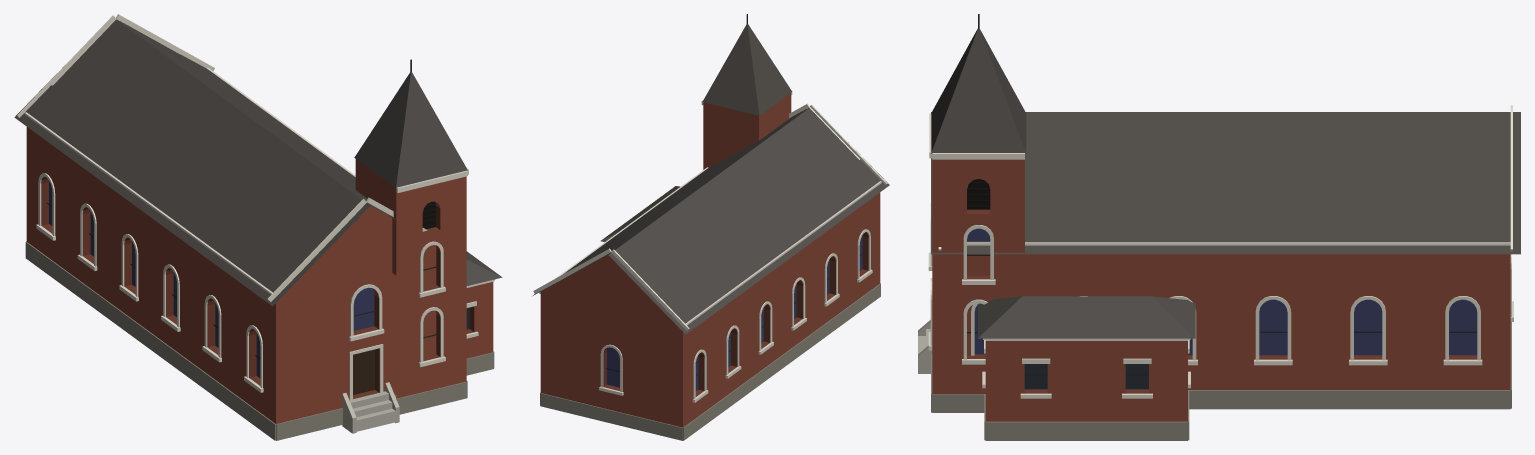
File: ch-holy-ghost-church-of-god.glb
3 views of the same model, side by side, from view 1: azimuth 30°, elevation 25°; view 2: azimuth 150°, elevation 25°; view 3: azimuth 270°, elevation 25° (orthographic). The views are drawn at different scales.
Parts seen in each view (by area): view 1: ch_brick, ch_roof, ch_trim, ch_base, ch_roof2, ch_brick2, ch_conc, ch_stain, ch_door; view 2: ch_brick, ch_roof, ch_trim, ch_base, ch_roof2, ch_brick2, ch_stain; view 3: ch_roof, ch_brick, ch_base, ch_trim, ch_roof2, ch_stain, ch_glass, ch_brick2, ch_shadow, ch_conc.
Boxes of the visible parts, x1,y1,x2,y2 form: ch_brick: (26, 127, 493, 423); ch_roof: (14, 19, 502, 306); ch_trim: (17, 14, 495, 400); ch_base: (25, 241, 494, 440); ch_roof2: (354, 72, 467, 188); ch_brick2: (41, 176, 474, 398); ch_conc: (342, 382, 399, 433); ch_stain: (49, 181, 374, 377); ch_door: (353, 349, 374, 394); ch_brick: (540, 93, 880, 427); ch_roof: (533, 107, 889, 334); ch_trim: (533, 92, 887, 402); ch_base: (540, 283, 880, 440); ch_roof2: (702, 24, 792, 115); ch_brick2: (603, 232, 868, 396); ch_stain: (607, 235, 862, 390); ch_roof: (931, 112, 1520, 338); ch_brick: (932, 159, 1510, 421); ch_base: (931, 322, 1511, 440); ch_trim: (928, 105, 1513, 398); ch_roof2: (931, 28, 1026, 153); ch_stain: (967, 228, 1477, 355); ch_glass: (1024, 364, 1148, 389); ch_brick2: (967, 209, 1477, 393); ch_shadow: (967, 179, 990, 209); ch_conc: (918, 320, 932, 373).
Bounding box in the file's own units: 12.84 × 16.3 × 23.37.
